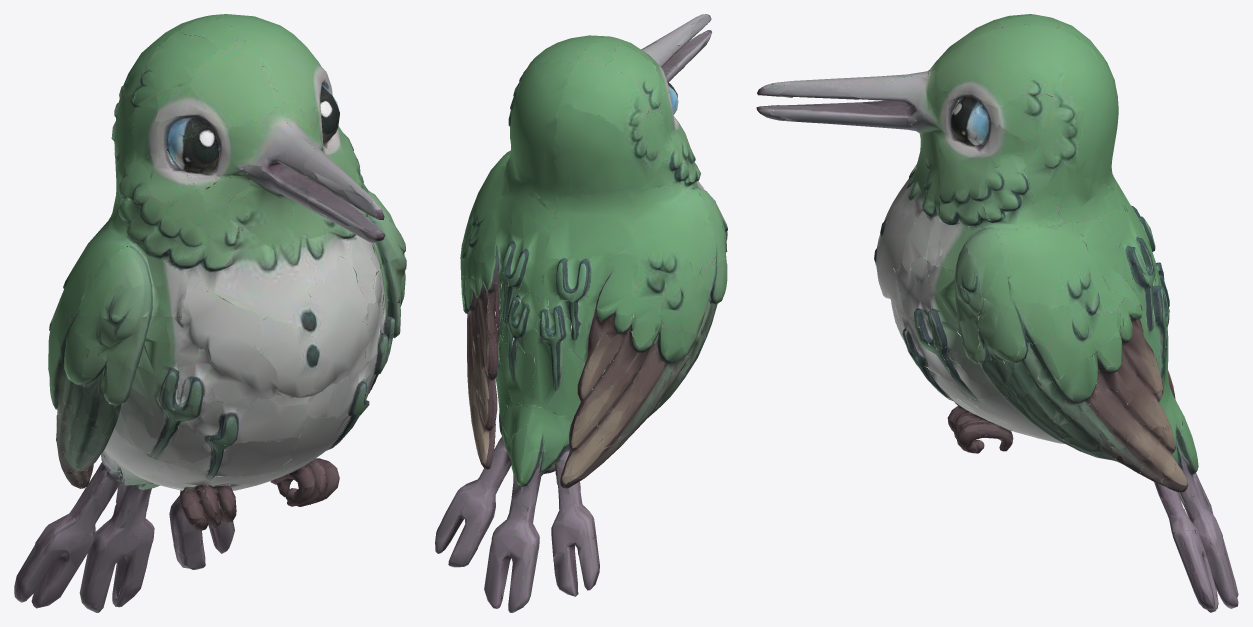
The picture shows the model from 3 angles, left to right: view 1: azimuth 30°, elevation 25°; view 2: azimuth 150°, elevation 25°; view 3: azimuth 270°, elevation 25°; orthographic projection. The views are drawn at different scales.
Visible parts, largest first — view 1: Mesh_0; view 2: Mesh_0; view 3: Mesh_0.
Part boxes in pixels (x1,y1,x2,y2): Mesh_0: [14, 14, 406, 612]; Mesh_0: [435, 14, 727, 612]; Mesh_0: [756, 14, 1238, 612].
Size of the model in its own units: 0.9829 by 1.9 by 1.43.
Materials: 1 (1 with a texture image).
